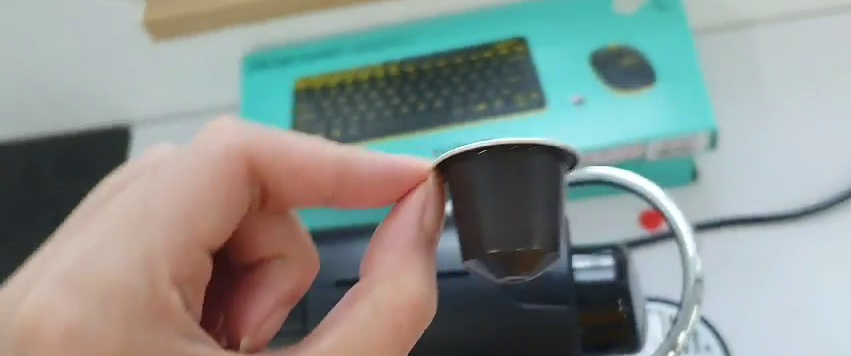capsule_4: (429, 135, 584, 280)
